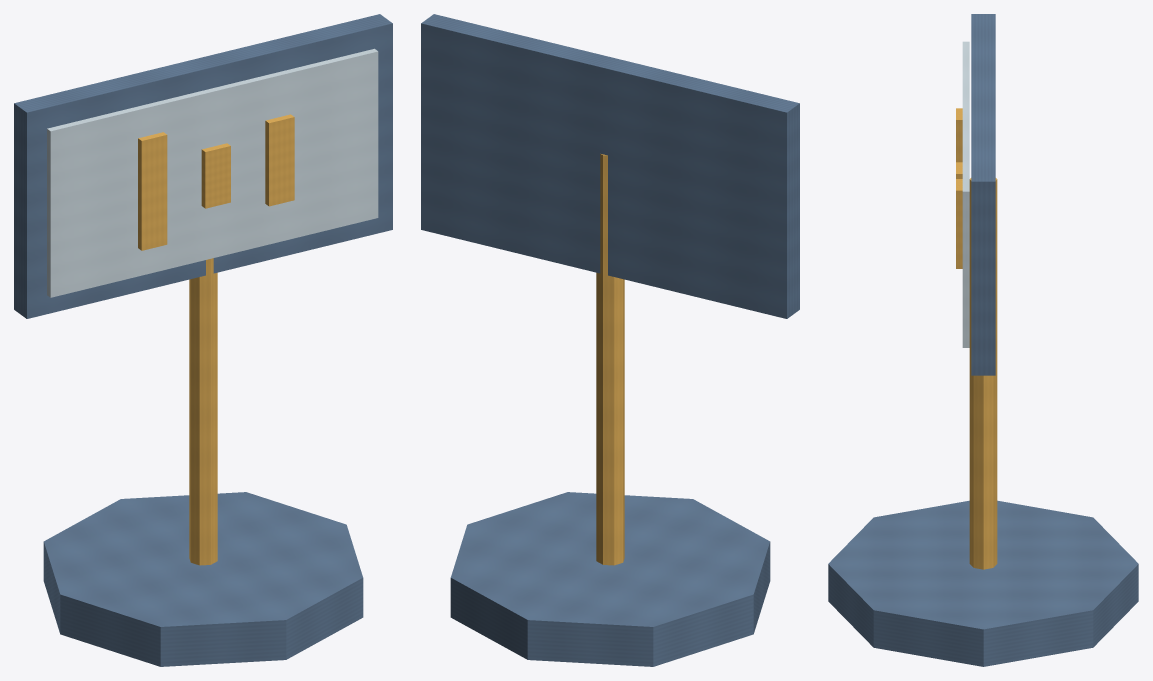
File: atlas100-s053-a11.glb
3 views of the same model, side by side, from view 1: azimuth 30°, elevation 25°; view 2: azimuth 150°, elevation 25°; view 3: azimuth 270°, elevation 25° (orthographic). The views are drawn at different scales.
Parts seen in each view (by area): view 1: atlas100-s053-a11:part-003, atlas100-s053-a11:part-000, atlas100-s053-a11:part-002, atlas100-s053-a11:part-001, atlas100-s053-a11:part-004, atlas100-s053-a11:part-006, atlas100-s053-a11:part-005; view 2: atlas100-s053-a11:part-002, atlas100-s053-a11:part-000, atlas100-s053-a11:part-001; view 3: atlas100-s053-a11:part-000, atlas100-s053-a11:part-002, atlas100-s053-a11:part-001, atlas100-s053-a11:part-003, atlas100-s053-a11:part-006.
Boxes of the visible parts, left/top/right/bottom form: atlas100-s053-a11:part-003: left=47, top=48, right=378, bottom=297; atlas100-s053-a11:part-000: left=43, top=492, right=363, bottom=666; atlas100-s053-a11:part-002: left=14, top=14, right=392, bottom=318; atlas100-s053-a11:part-001: left=189, top=258, right=217, bottom=565; atlas100-s053-a11:part-004: left=138, top=132, right=167, bottom=250; atlas100-s053-a11:part-006: left=265, top=114, right=294, bottom=206; atlas100-s053-a11:part-005: left=201, top=143, right=230, bottom=208; atlas100-s053-a11:part-002: left=421, top=14, right=799, bottom=318; atlas100-s053-a11:part-000: left=450, top=492, right=770, bottom=666; atlas100-s053-a11:part-001: left=596, top=154, right=624, bottom=565; atlas100-s053-a11:part-000: left=828, top=500, right=1138, bottom=666; atlas100-s053-a11:part-002: left=971, top=14, right=995, bottom=375; atlas100-s053-a11:part-001: left=969, top=178, right=997, bottom=569; atlas100-s053-a11:part-003: left=962, top=41, right=969, bottom=347; atlas100-s053-a11:part-006: left=956, top=179, right=962, bottom=268.
Bounding box in the file's own units: 1.15 × 1.61 × 0.9.
3 materials, 3 textured.
